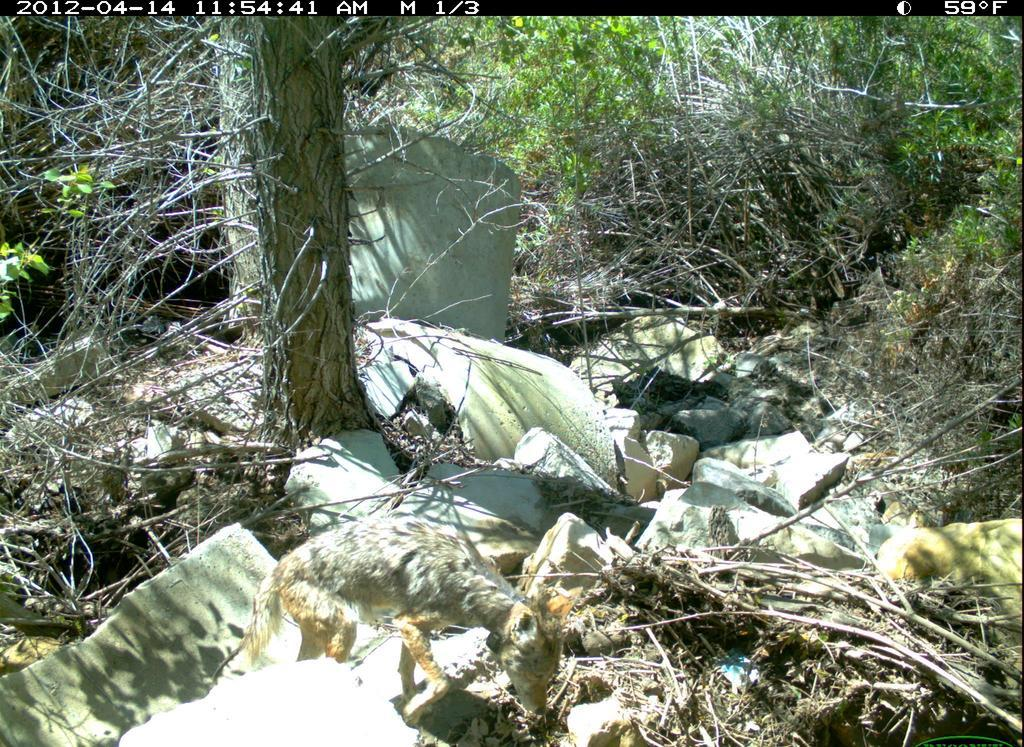coyote: (246, 511, 591, 731)
